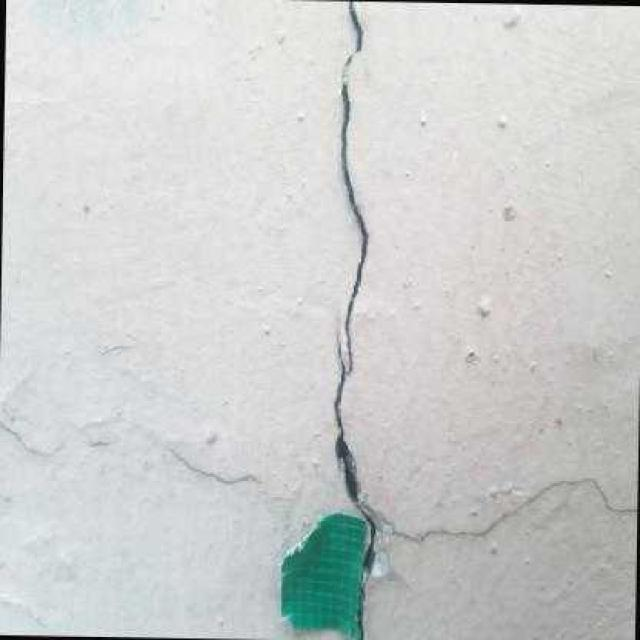D00: (333, 312, 376, 640), (339, 0, 368, 375)
